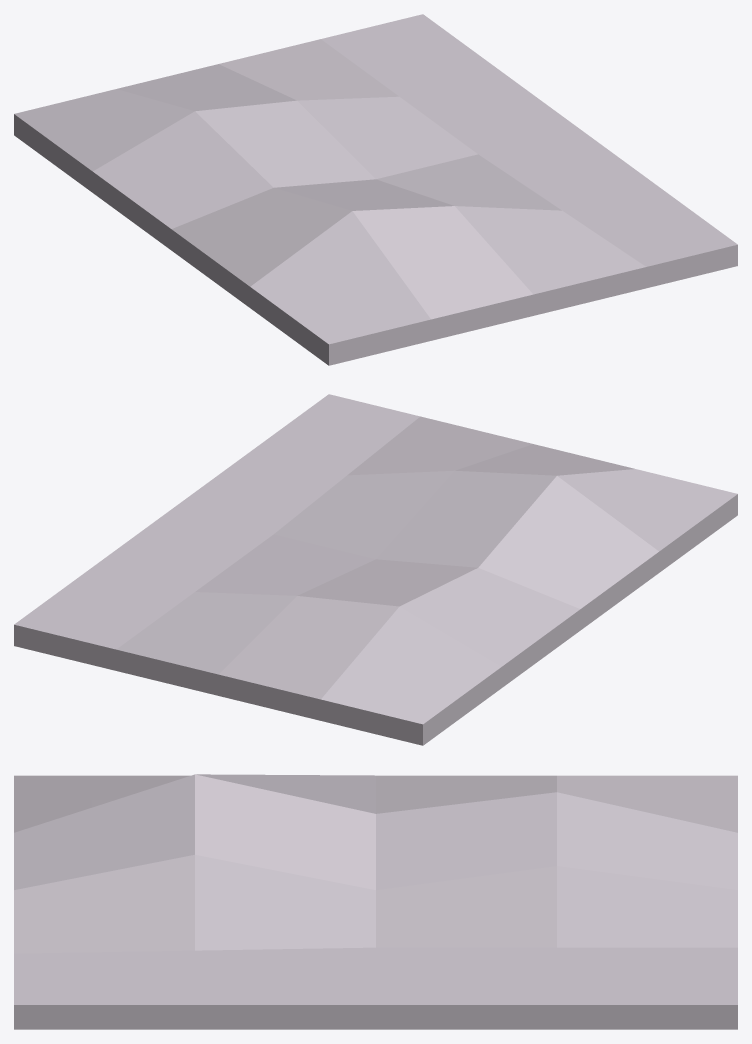
File: snow_02_6x8.fbx
The picture shows the model from 3 angles, top to bottom: view 1: azimuth 30°, elevation 25°; view 2: azimuth 150°, elevation 25°; view 3: azimuth 270°, elevation 25°; orthographic projection. The views are drawn at different scales.
Visible parts, largest first — view 1: Plane.017; view 2: Plane.017; view 3: Plane.017.
Part boxes in pixels (x1=…): Plane.017: x1=14, y1=14, x2=737, y2=365; Plane.017: x1=14, y1=394, x2=737, y2=745; Plane.017: x1=14, y1=774, x2=737, y2=1029.
Size of the model in its own units: 600 by 101 by 800.
